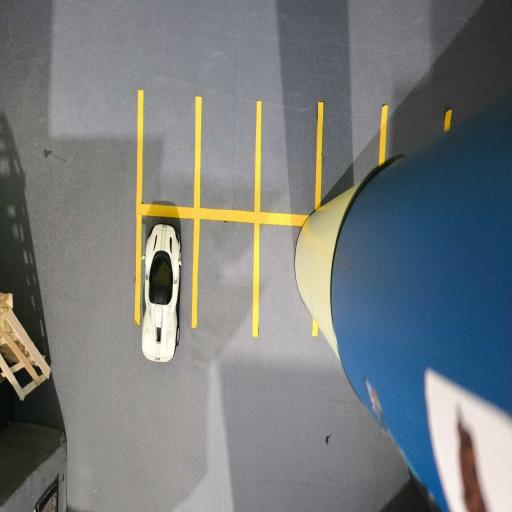toy_car: (0, 0, 510, 510), (142, 224, 181, 361)
